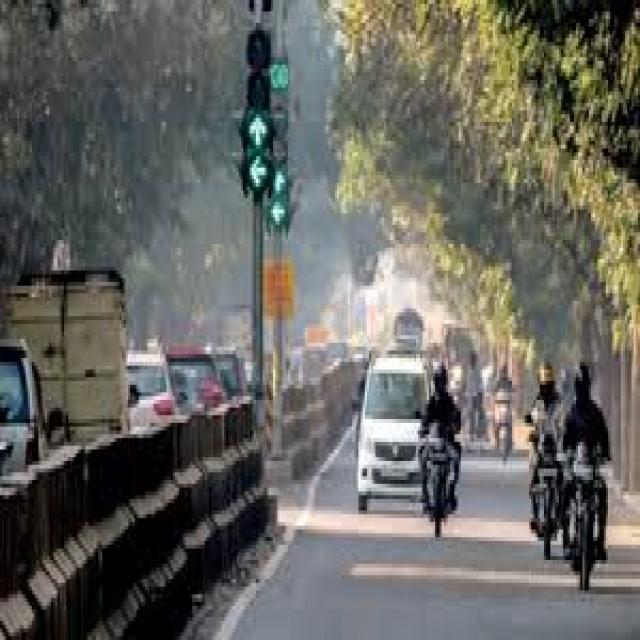car ahead at: (352, 349, 423, 520)
motorcycle ahead at: (423, 364, 465, 544)
traffic signal ahead at: (239, 13, 275, 211)
